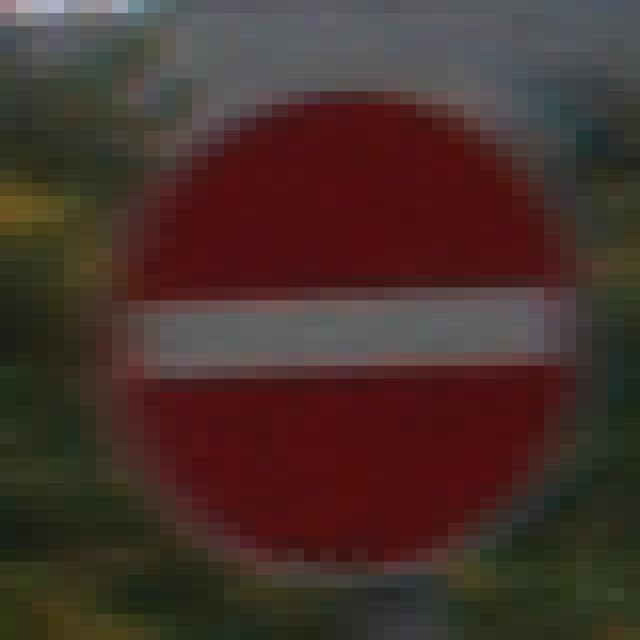No Entry: (81, 66, 561, 576)
